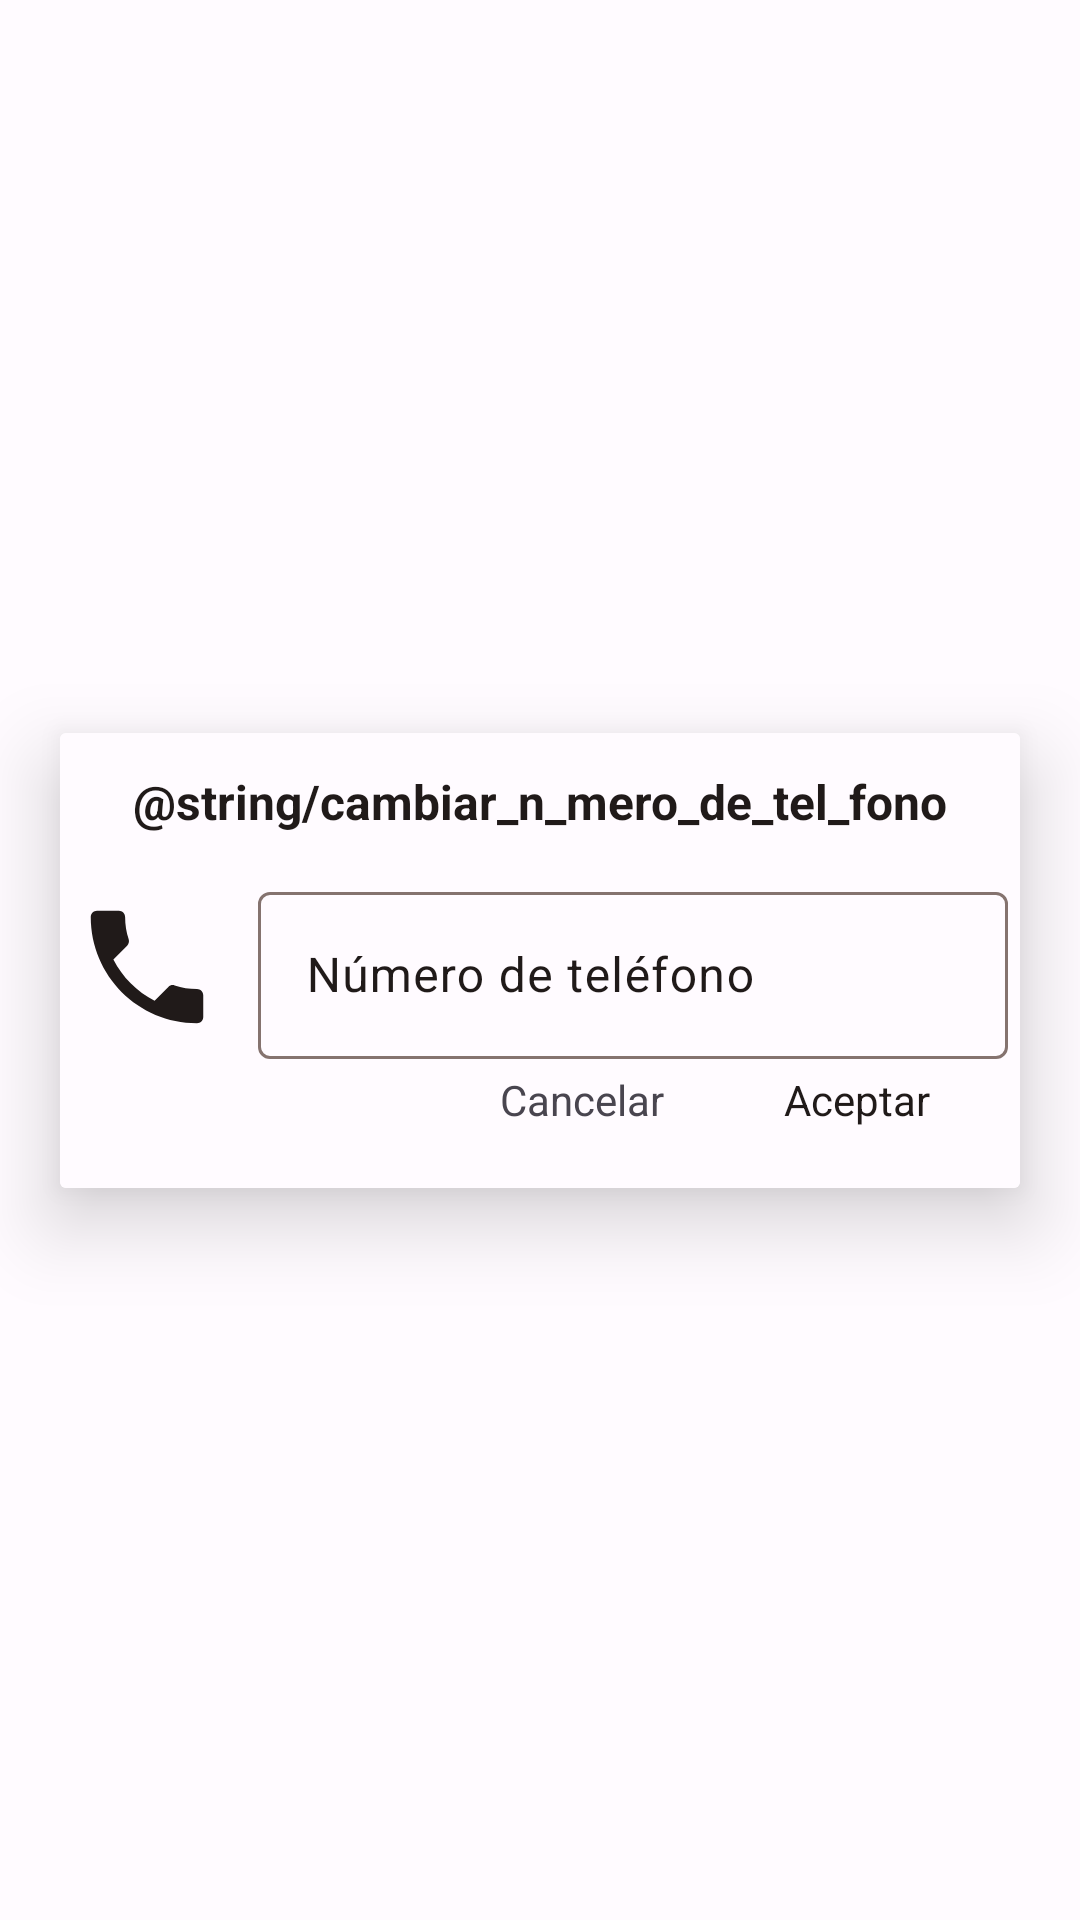

Locate icon controls on the screen. Image size 1080w x 1920h, boxes as {"left": x1, "top": y1, "right": x2, "bottom": y2}.
local phone: {"left": 90, "top": 910, "right": 204, "bottom": 1024}
